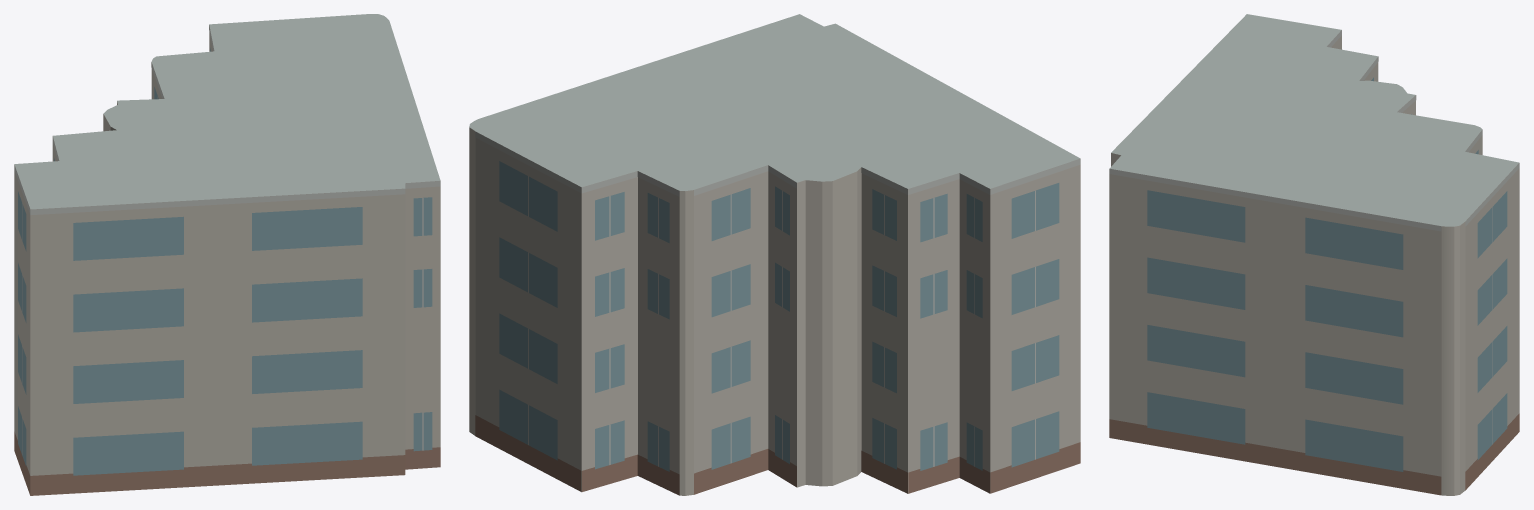
The model's file is survey-upis-32658499.glb.
3 renders of one model, left to right at view 1: azimuth 30°, elevation 25°; view 2: azimuth 150°, elevation 25°; view 3: azimuth 270°, elevation 25°, orthographic. The views are drawn at different scales.
Visible parts, largest first — view 1: survey-upis-32658499.tmp; view 2: survey-upis-32658499.tmp; view 3: survey-upis-32658499.tmp.
Part boxes in pixels (x1=…): survey-upis-32658499.tmp: x1=14, y1=14, x2=440, y2=495; survey-upis-32658499.tmp: x1=469, y1=14, x2=1080, y2=495; survey-upis-32658499.tmp: x1=1109, y1=14, x2=1519, y2=495.
Size of the model in its own units: 20.67 by 12.2 by 16.85.
